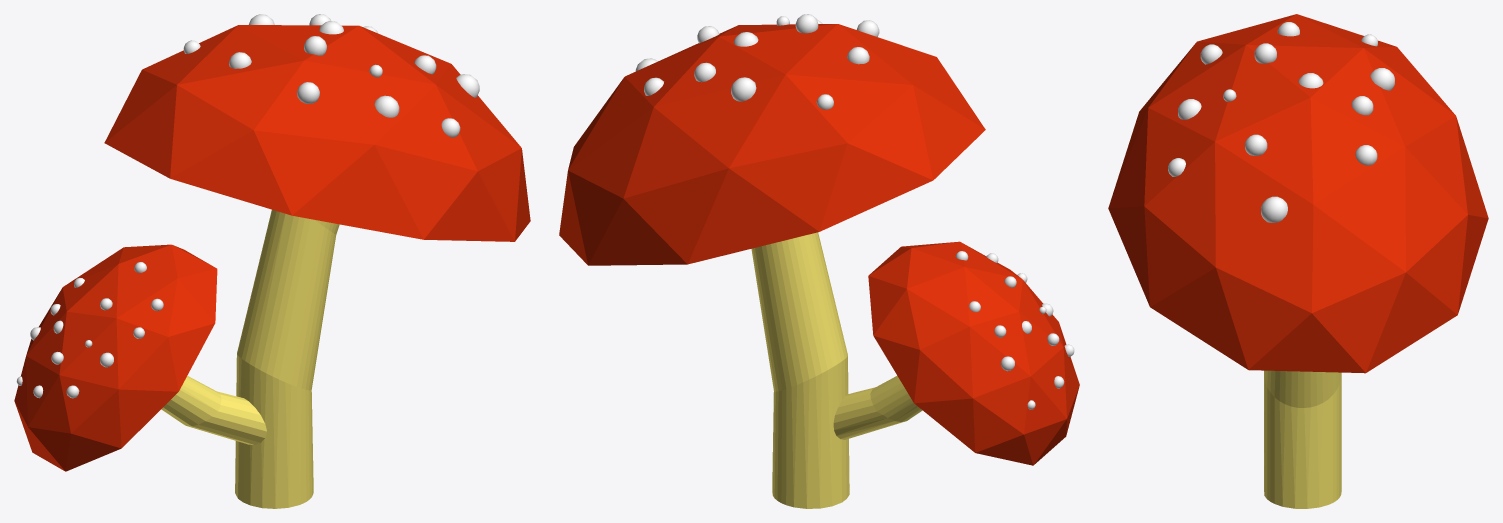
The model's file is Mushroom.fbx.
3 views of the same model, side by side, from view 1: azimuth 30°, elevation 25°; view 2: azimuth 150°, elevation 25°; view 3: azimuth 270°, elevation 25° (orthographic).
Visible parts, largest first — view 1: mushroom; view 2: mushroom; view 3: mushroom.
Boxes of the visible parts, box(x1,y1,x2,y2) form: mushroom: box(14, 14, 530, 508); mushroom: box(559, 14, 1079, 508); mushroom: box(1108, 14, 1488, 508).
Bounding box in the file's own units: 873 × 793 × 595.
